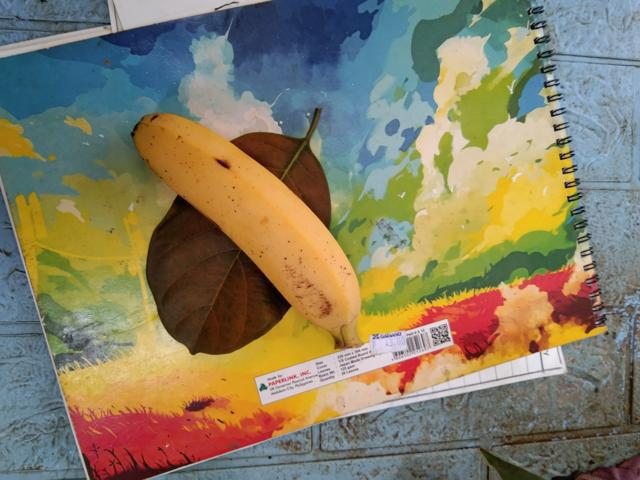ripe: (77, 99, 379, 338)
